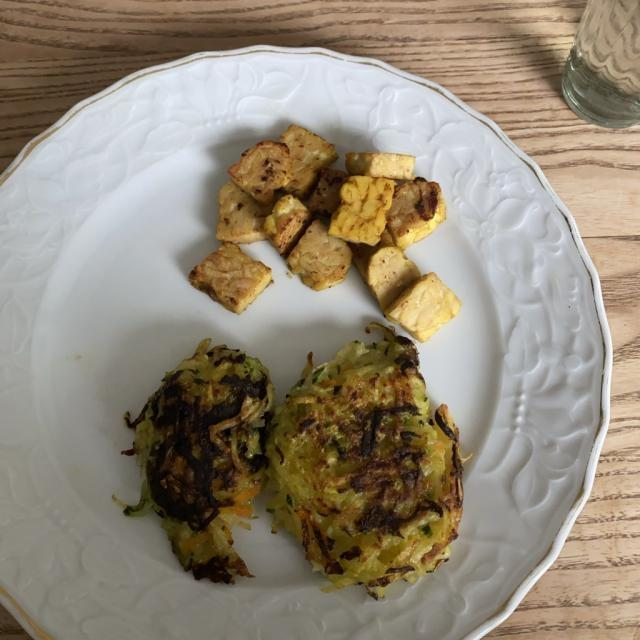tofu: (197, 128, 454, 334)
